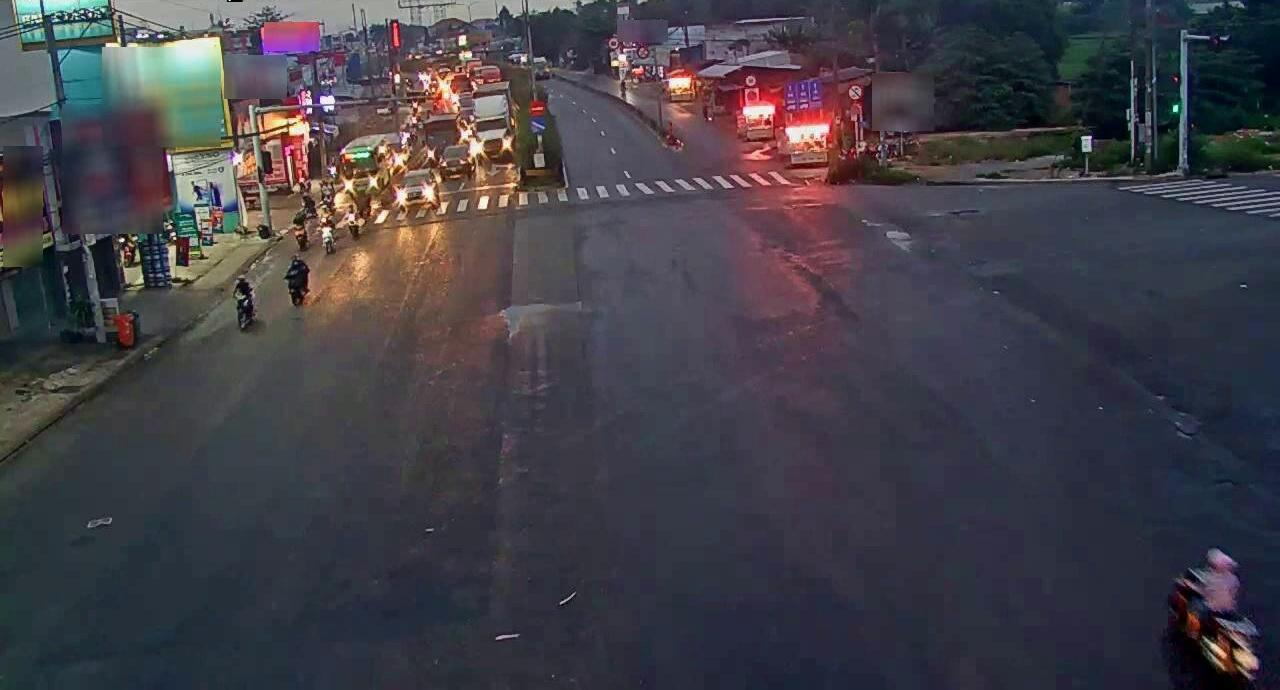xe may: (228, 272, 259, 337), (281, 249, 314, 308)
